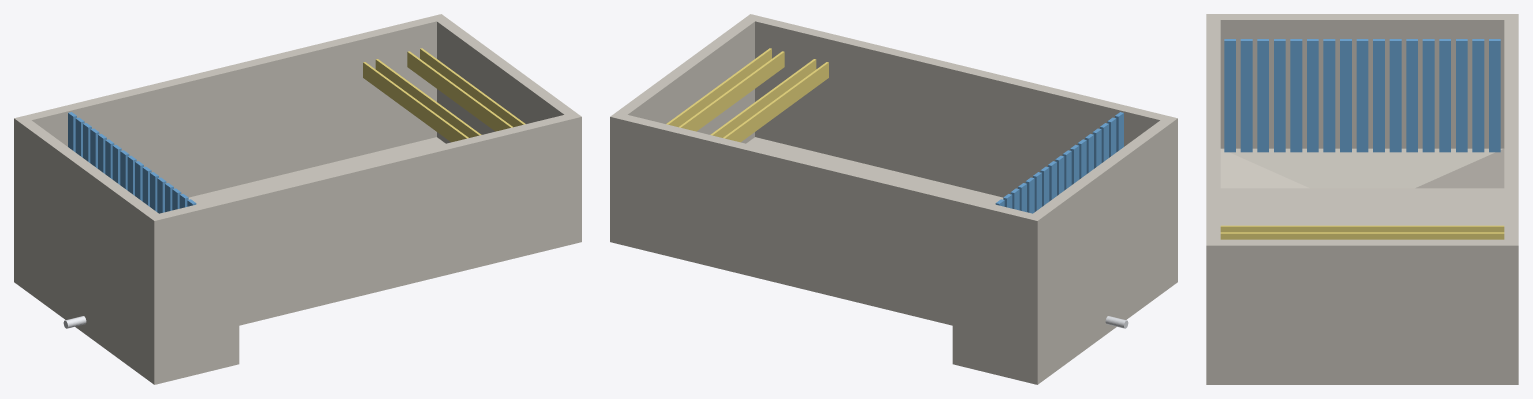
3 renders of one model, left to right at view 1: azimuth 30°, elevation 25°; view 2: azimuth 150°, elevation 25°; view 3: azimuth 270°, elevation 25°, orthographic. The views are drawn at different scales.
Parts seen in each view (by area): view 1: agua_sedimentador__convencional__cuerpo, agua_sedimentador__convencional__canaletas, agua_sedimentador__convencional__pantalla_difusora; view 2: agua_sedimentador__convencional__cuerpo, agua_sedimentador__convencional__canaletas, agua_sedimentador__convencional__pantalla_difusora; view 3: agua_sedimentador__convencional__cuerpo, agua_sedimentador__convencional__pantalla_difusora, agua_sedimentador__convencional__canaletas.
Part boxes in pixels (x1,y1,x2,y2): agua_sedimentador__convencional__cuerpo: [14, 14, 581, 384]; agua_sedimentador__convencional__canaletas: [363, 48, 525, 142]; agua_sedimentador__convencional__pantalla_difusora: [68, 112, 196, 213]; agua_sedimentador__convencional__cuerpo: [610, 14, 1177, 384]; agua_sedimentador__convencional__canaletas: [666, 48, 828, 142]; agua_sedimentador__convencional__pantalla_difusora: [995, 112, 1123, 213]; agua_sedimentador__convencional__cuerpo: [1206, 14, 1518, 384]; agua_sedimentador__convencional__pantalla_difusora: [1224, 39, 1500, 152]; agua_sedimentador__convencional__canaletas: [1220, 225, 1504, 239].
Bounding box in the file's own units: 12.1 × 4.25 × 6.6.
